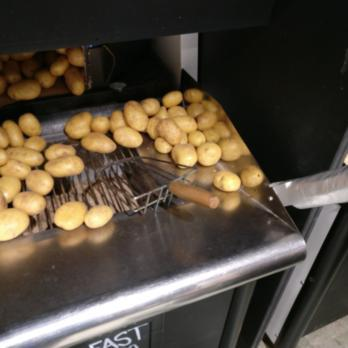Solid potato: (65, 110, 226, 164), (0, 115, 53, 237), (0, 54, 87, 93), (50, 198, 114, 235), (43, 137, 88, 181), (212, 164, 266, 194), (143, 90, 208, 112)
